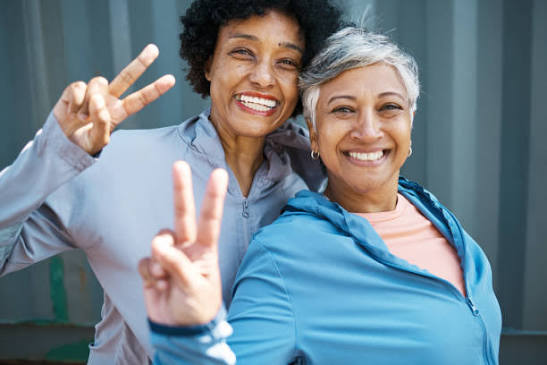peace_sign: (134, 152, 238, 325)
